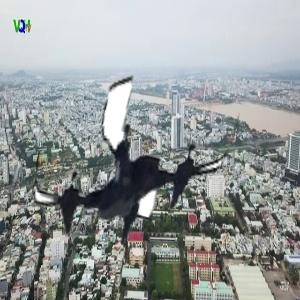drone: (31, 55, 237, 261)
